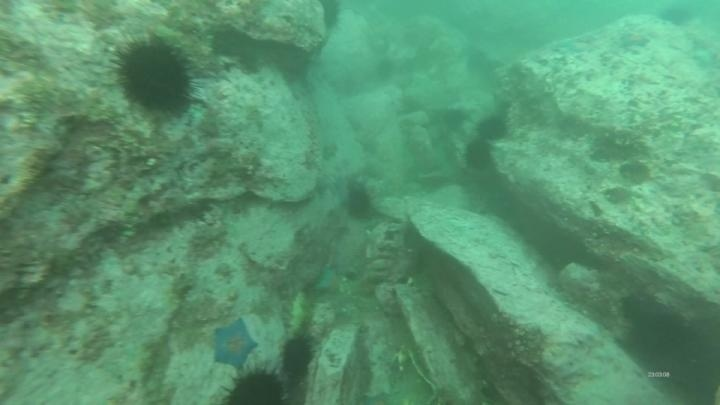echinus: (110, 35, 199, 118), (221, 367, 288, 405), (279, 333, 316, 379), (342, 181, 377, 223), (462, 138, 495, 173), (475, 113, 510, 144), (657, 4, 696, 30), (317, 0, 344, 35)
holothurian: (360, 328, 398, 402), (283, 286, 315, 341)
starfish: (209, 317, 260, 371), (312, 262, 346, 297), (616, 28, 654, 52)
